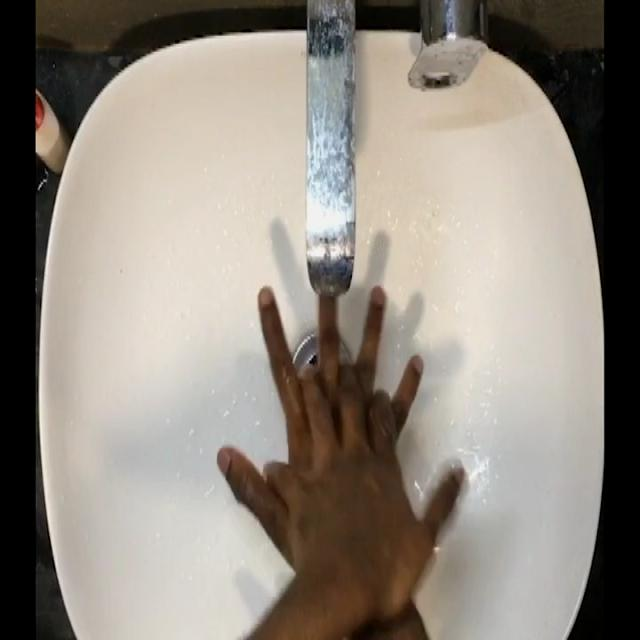step_2: (213, 267, 461, 580)
